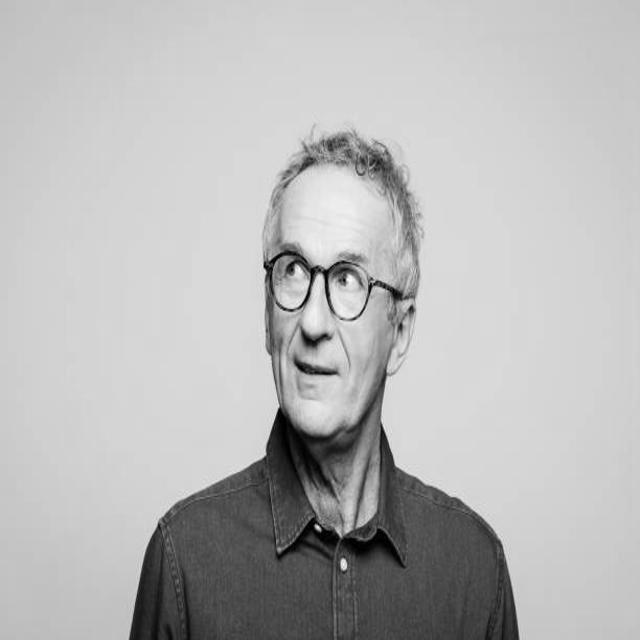Surprised: (269, 179, 395, 439)
